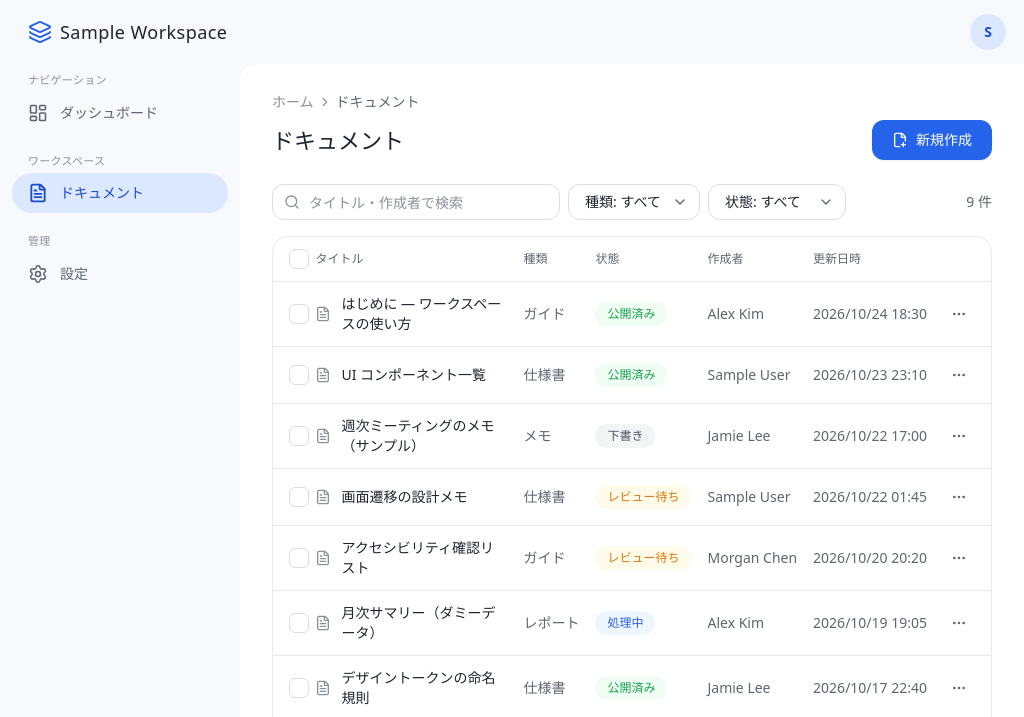
Test case: ドキュメント画面 › 作成時に入力したメモがプレビューに表示される
The width and height of the screenshot is (1024, 717).
Click the button "新規作成": (932, 140) [872,120,992,160]
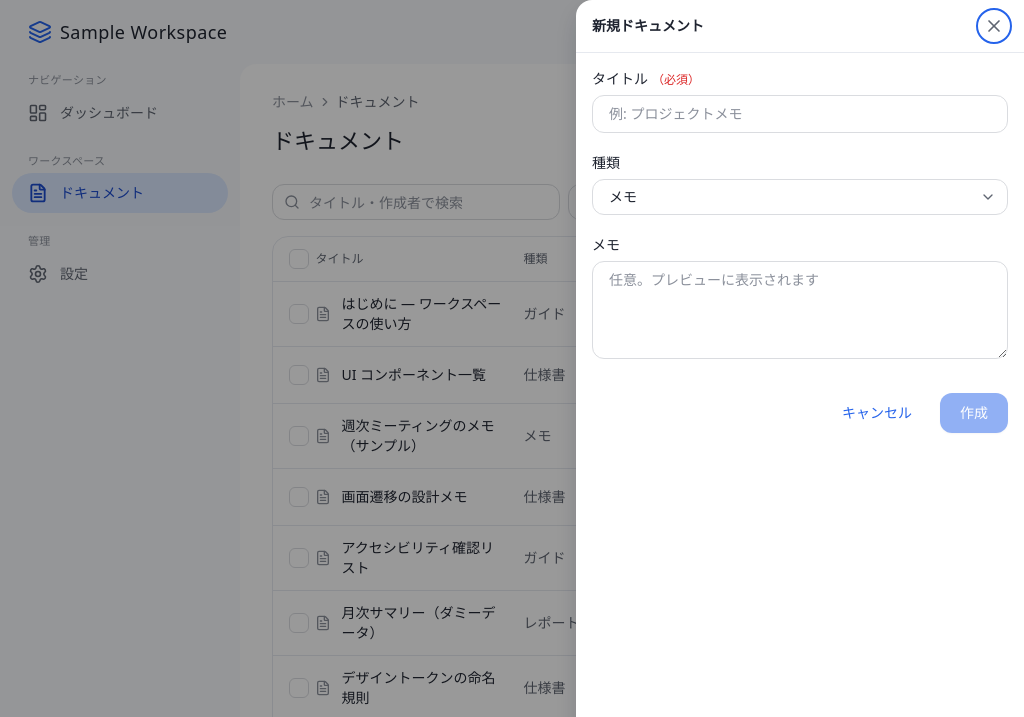
In the field labelled "タイトル（必須）": (800, 114) [592,95,1008,133], type "メモ付きの文書"
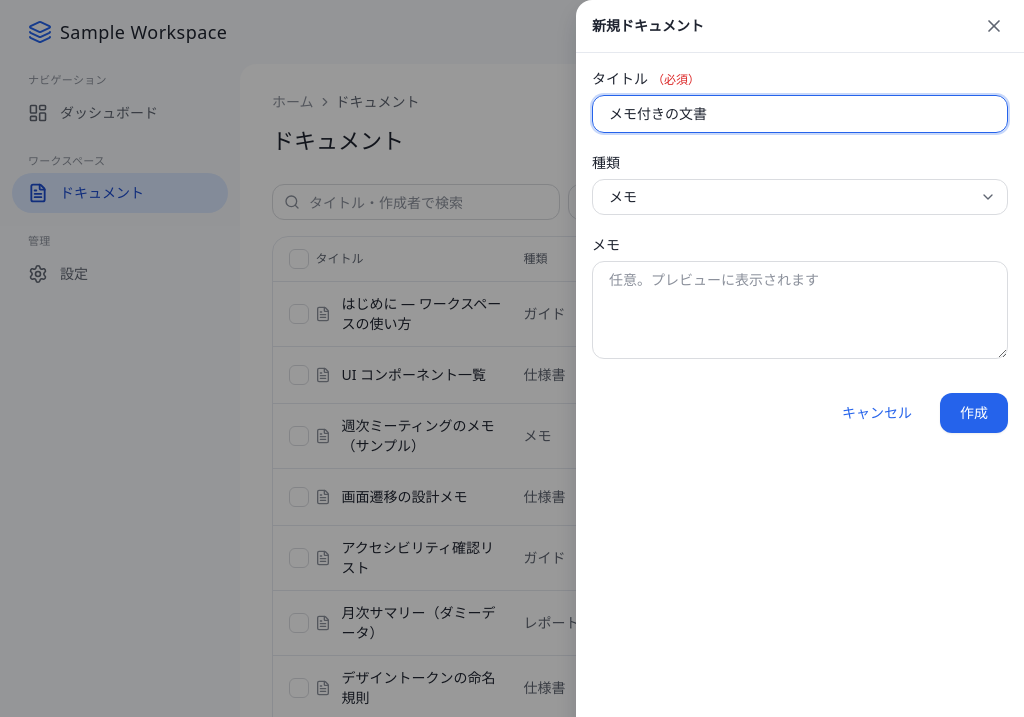
In the text box labelled "メモ": (800, 310) [592,261,1008,359], type "プレビューに出る本文"
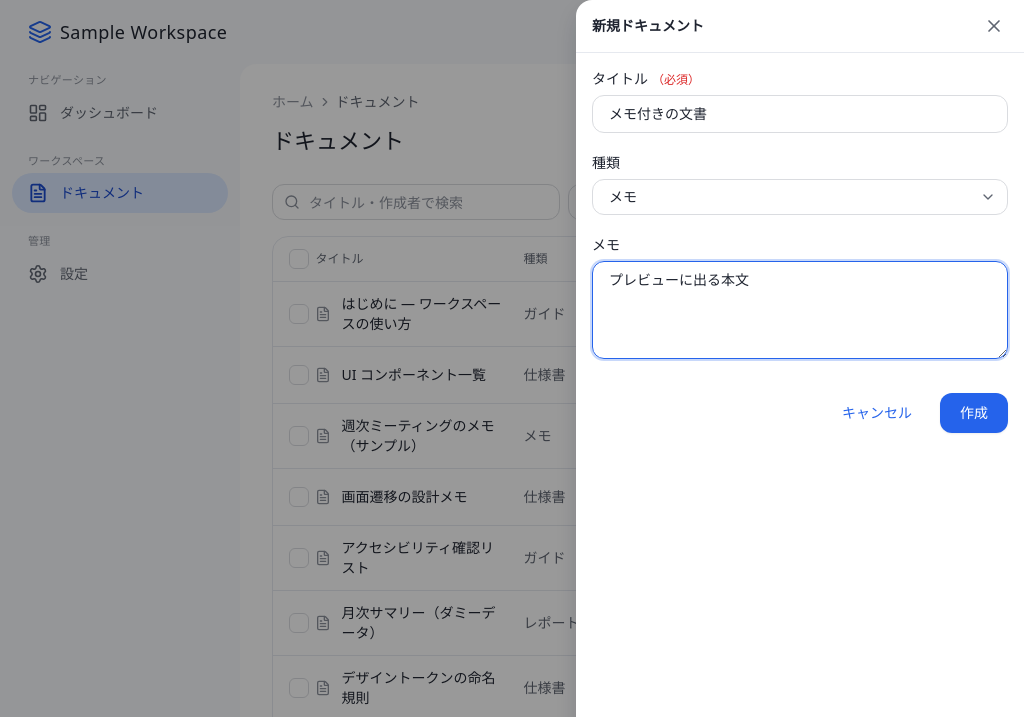
Click the button "作成": (974, 413) [940,393,1008,433]
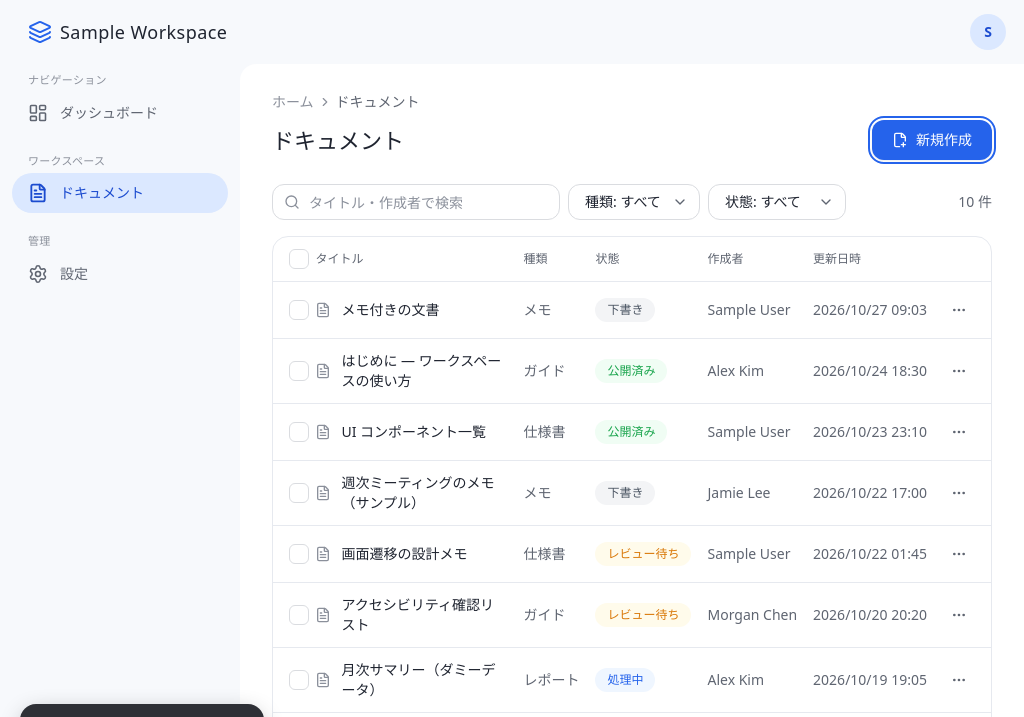
Click the button "メモ付きの文書": (412, 310) [316,300,508,320]
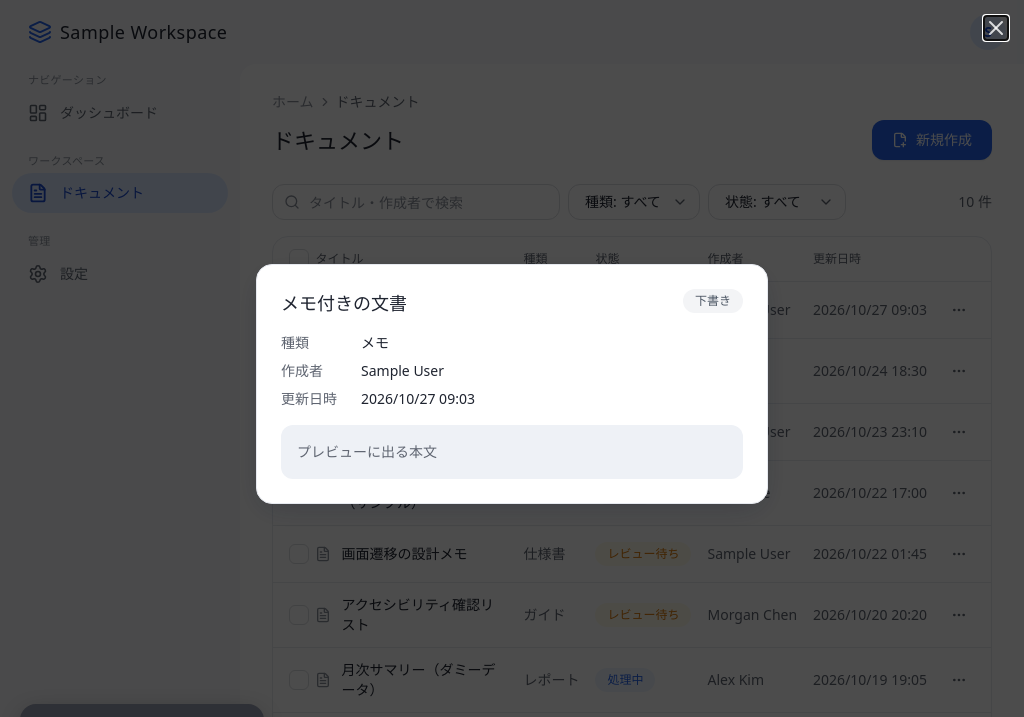
Now the text "プレビューに出る本文" is shown, box [281,425,743,479]
